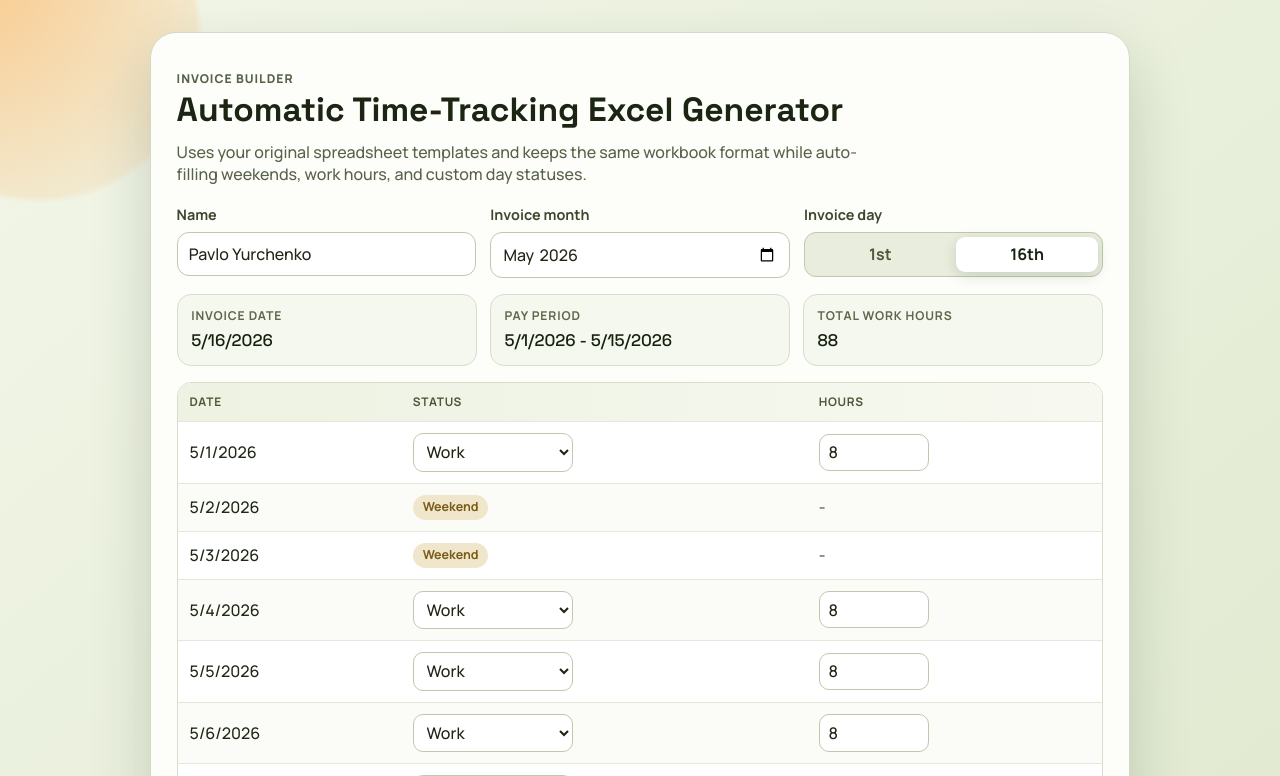
App defaults and period controls › updates the invoice date and pay period when run day buttons change
Replace the text in the field labelled "Invoice month" with "2026-03" at [640, 255], box left=490, top=232, right=790, bottom=278
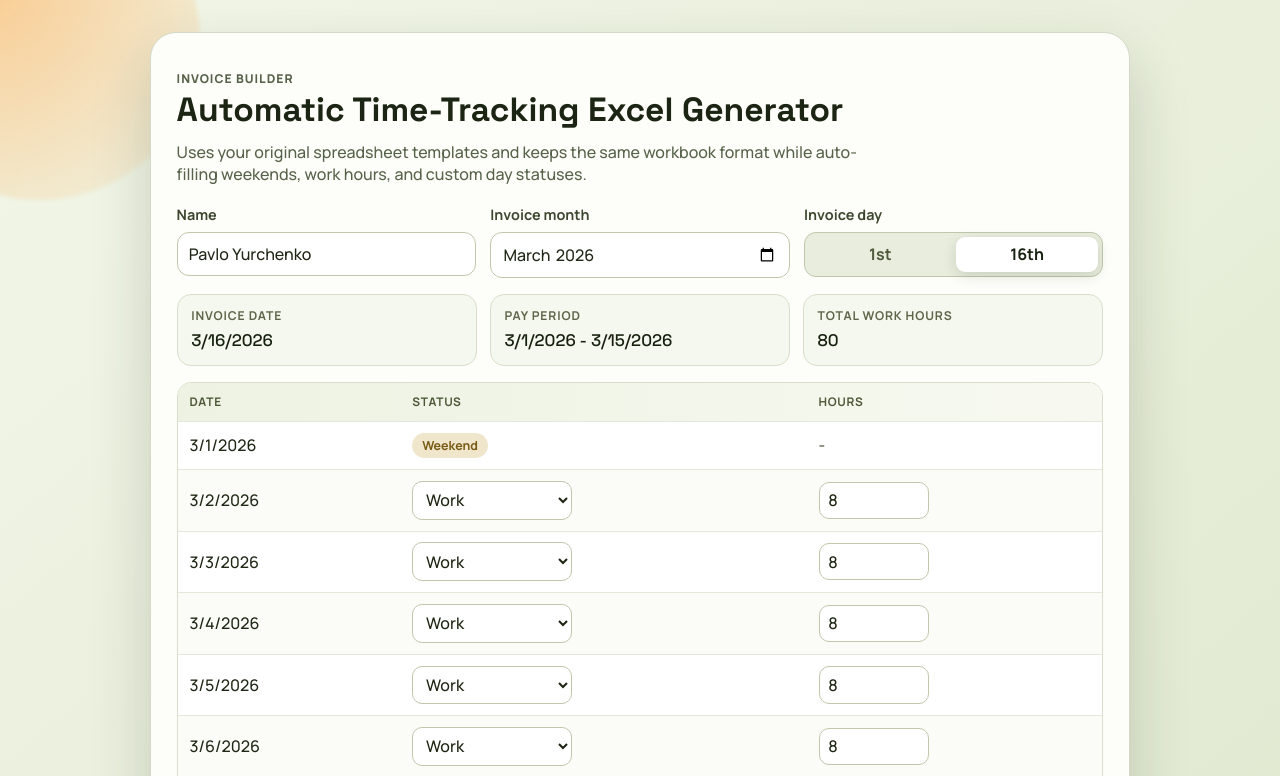
Click the button "1st" at [880, 254], box left=809, top=237, right=952, bottom=272
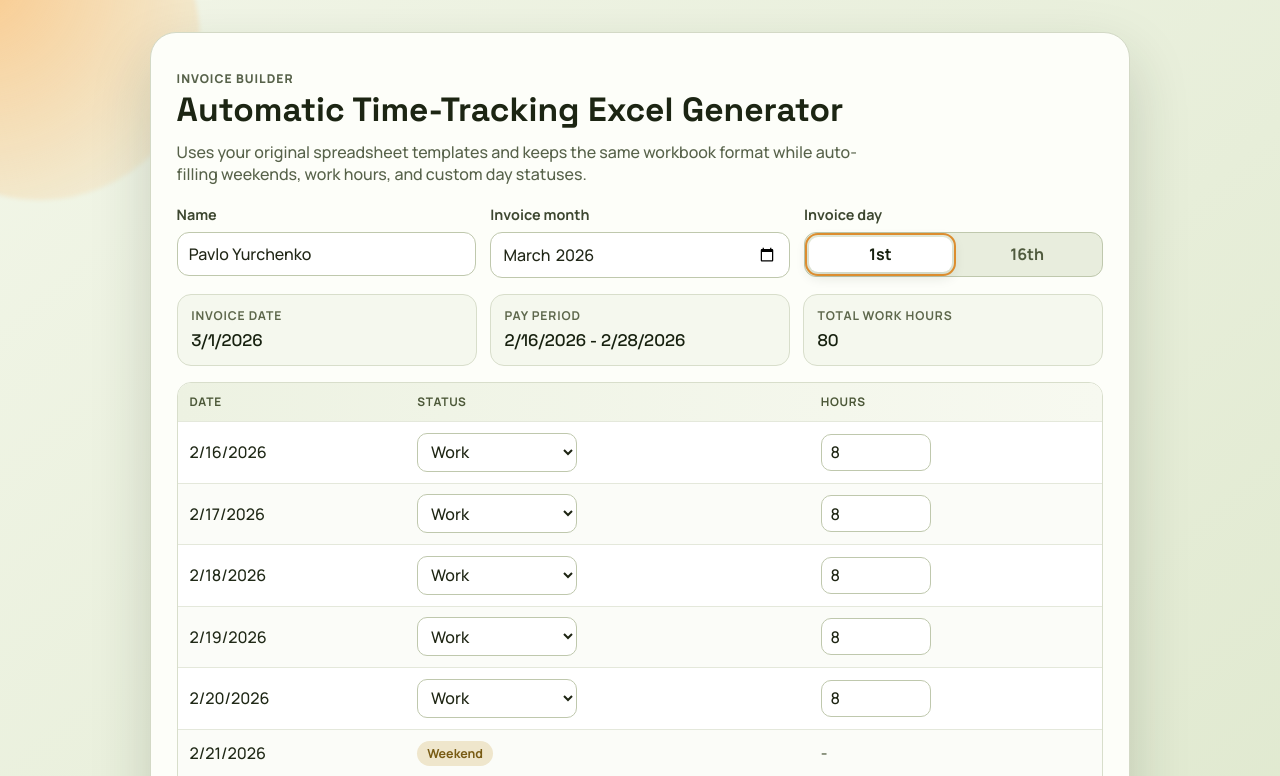
expect the text "3/1/2026" is shown: met, box left=191, top=329, right=263, bottom=351
expect the text "2/16/2026 - 2/28/2026" is shown: met, box left=504, top=329, right=685, bottom=351
Click the button "16th" at [1027, 254], box left=956, top=237, right=1098, bottom=272
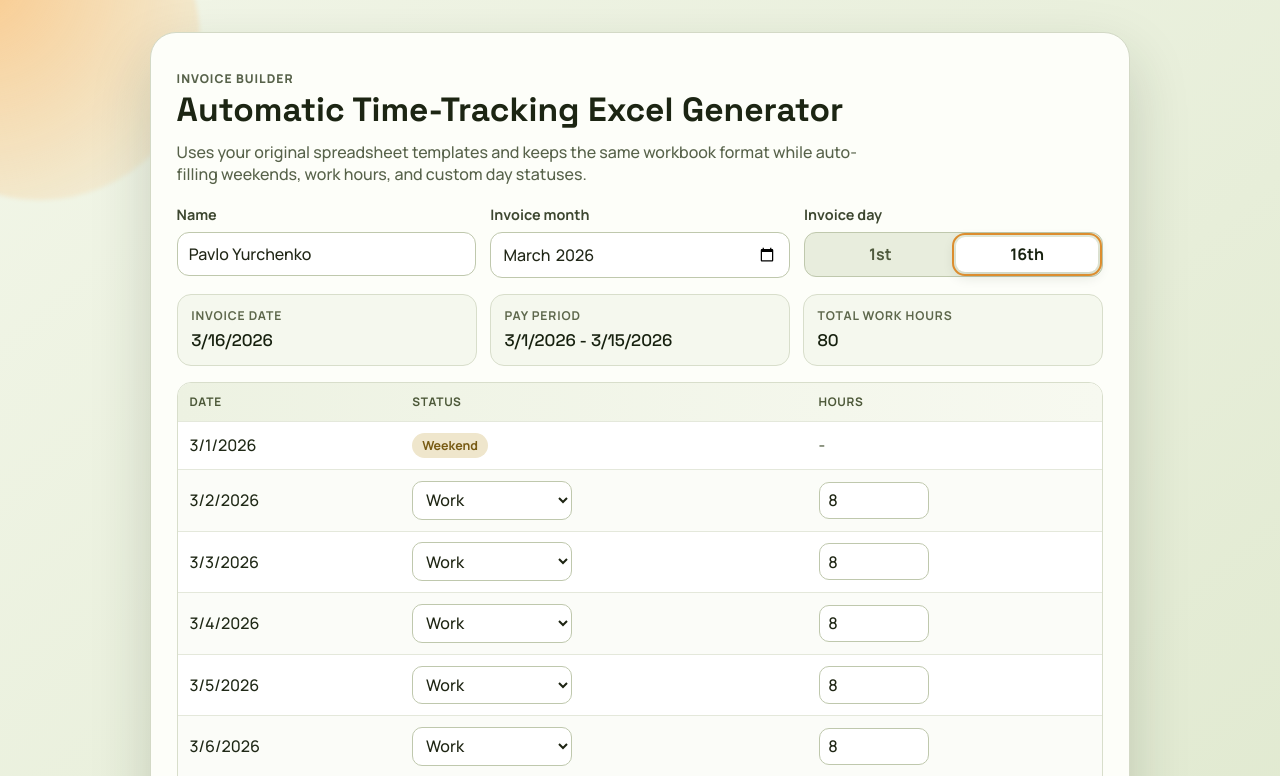
expect the text "3/16/2026" is shown: met, box left=191, top=329, right=273, bottom=351
expect the text "3/1/2026 - 3/15/2026" is shown: met, box left=504, top=329, right=672, bottom=351
